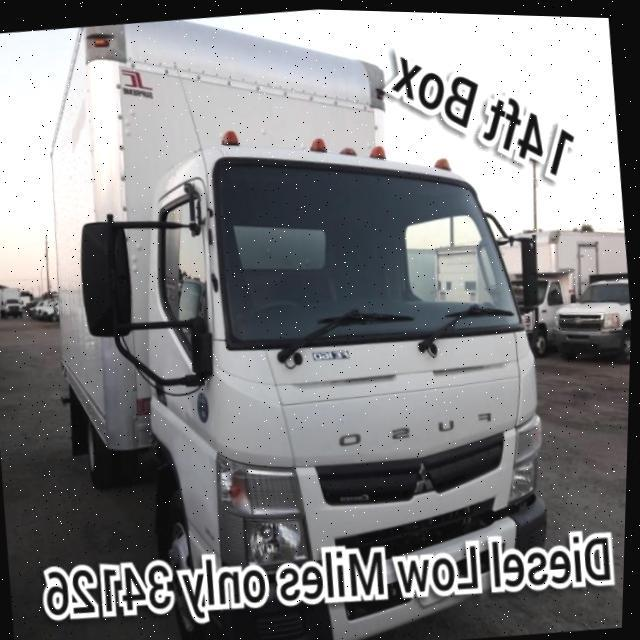truck: (25, 1, 575, 640)
